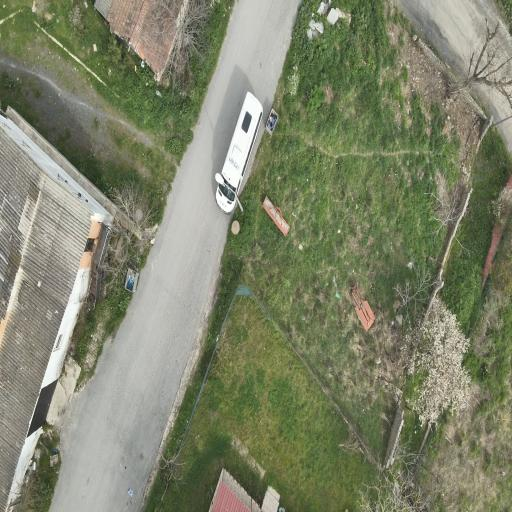bus: (216, 92, 262, 213)
